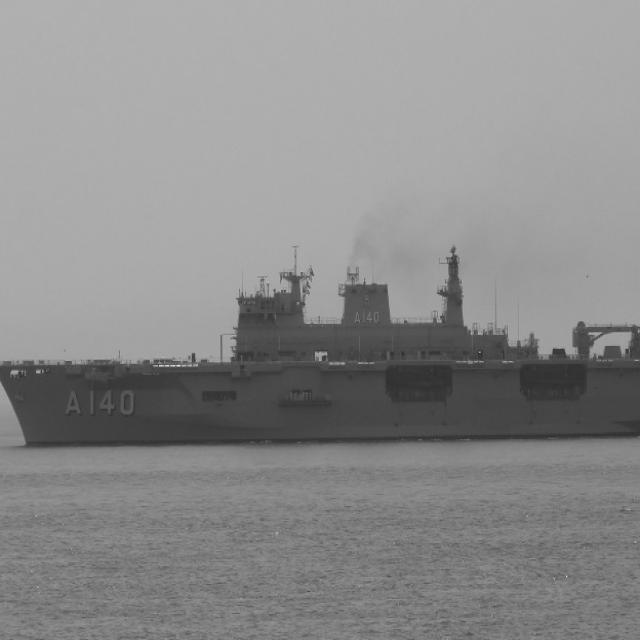Portanaves: (1, 240, 640, 451)
